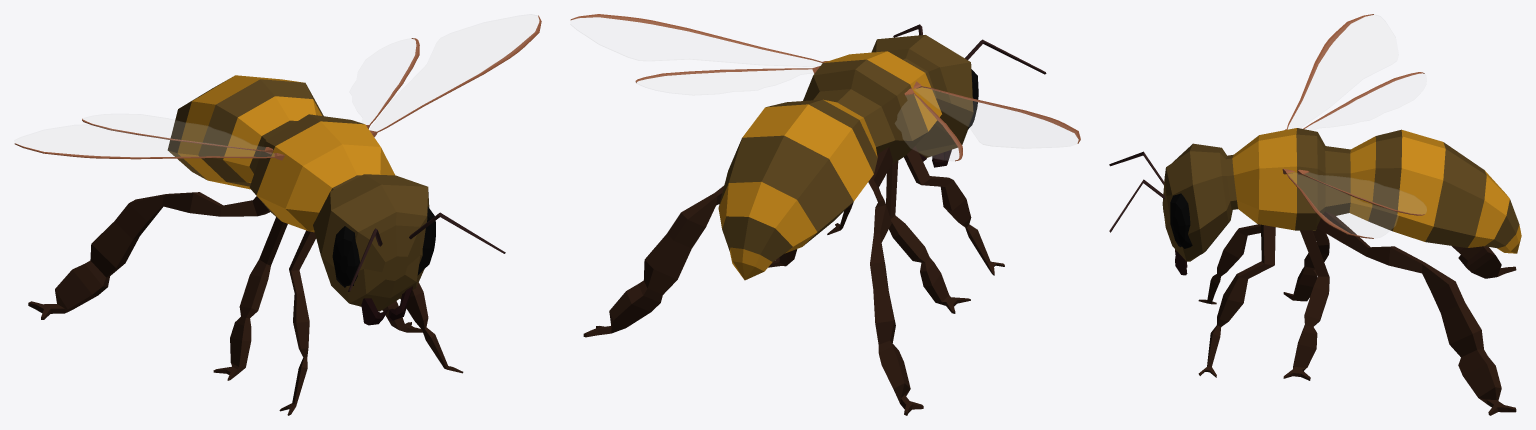
Rendered from abeille.fbx.
3 views of the same model, side by side, from view 1: azimuth 30°, elevation 25°; view 2: azimuth 150°, elevation 25°; view 3: azimuth 270°, elevation 25° (orthographic). The views are drawn at different scales.
Visible parts, largest first — view 1: Abeille, Aile_gauche, Aile_droite; view 2: Abeille, Aile_gauche, Aile_droite; view 3: Abeille, Aile_droite, Aile_gauche.
Part boxes in pixels (x1,y1,x2,y2): Abeille: (28, 75, 505, 415); Aile_gauche: (350, 14, 541, 137); Aile_droite: (14, 114, 284, 160); Abeille: (583, 24, 1046, 415); Aile_gauche: (570, 14, 828, 94); Aile_droite: (895, 81, 1080, 161); Abeille: (1109, 128, 1521, 415); Aile_droite: (1284, 14, 1426, 130); Aile_gauche: (1282, 168, 1426, 238).
Bounding box in the file's own units: 2.12 × 0.9596 × 1.65.
